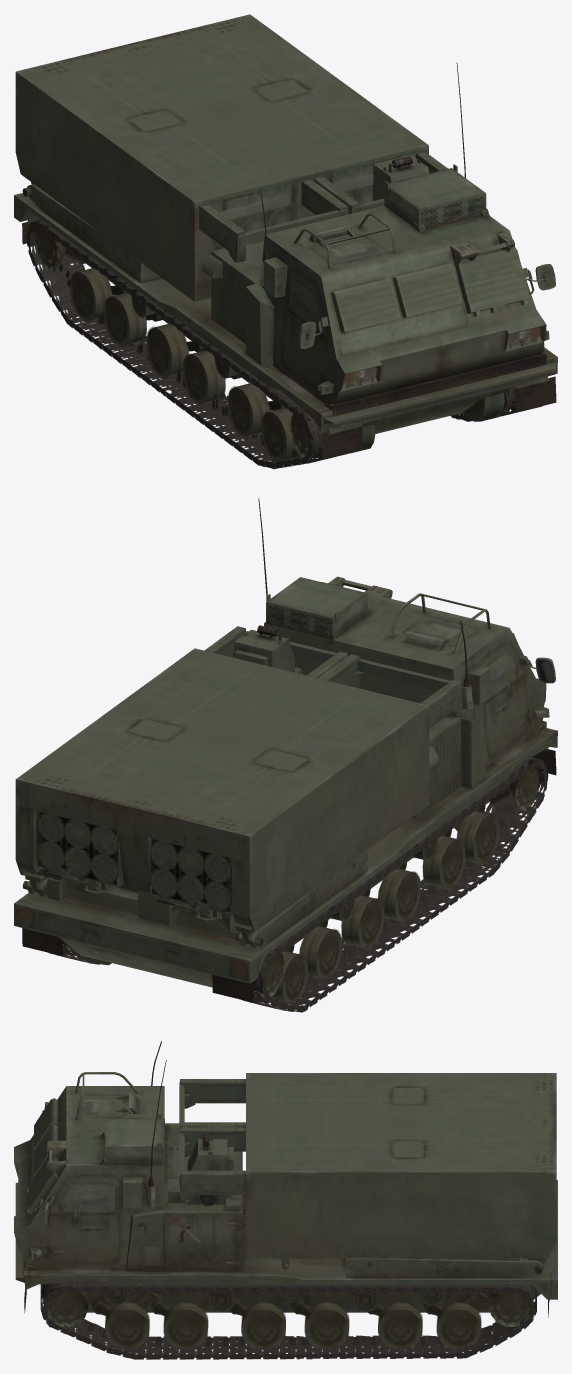
The picture shows the model from 3 angles, top to bottom: view 1: azimuth 30°, elevation 25°; view 2: azimuth 150°, elevation 25°; view 3: azimuth 270°, elevation 25°; orthographic projection. The views are drawn at different scales.
Parts seen in each view (by area): view 1: Object_4, Object_2; view 2: Object_4, Object_2; view 3: Object_4, Object_2.
Boxes of the visible parts, box(x1,y1,x2,y2) form: Object_4: box(14, 14, 557, 461); Object_2: box(26, 219, 542, 469); Object_4: box(14, 498, 557, 1005); Object_2: box(48, 757, 548, 1012); Object_4: box(14, 1041, 557, 1349); Object_2: box(40, 1280, 536, 1359).
Size of the model in its own units: 3.22 by 4.04 by 6.83.
3 materials, 3 textured.
